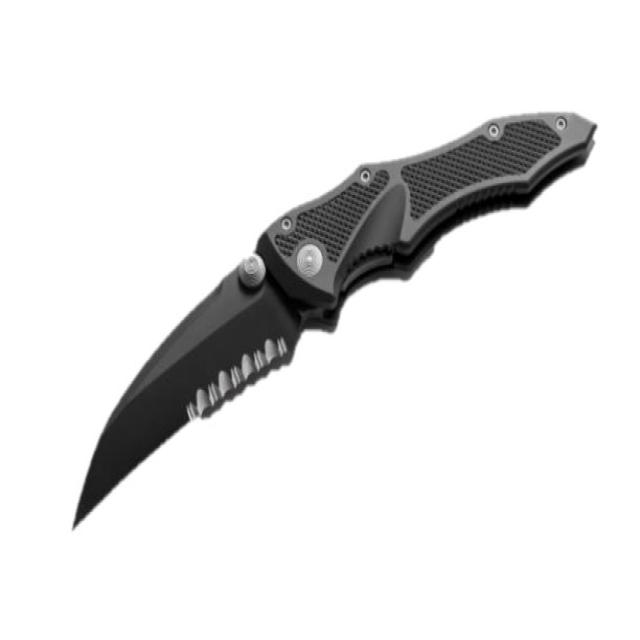knife: (69, 103, 608, 538)
